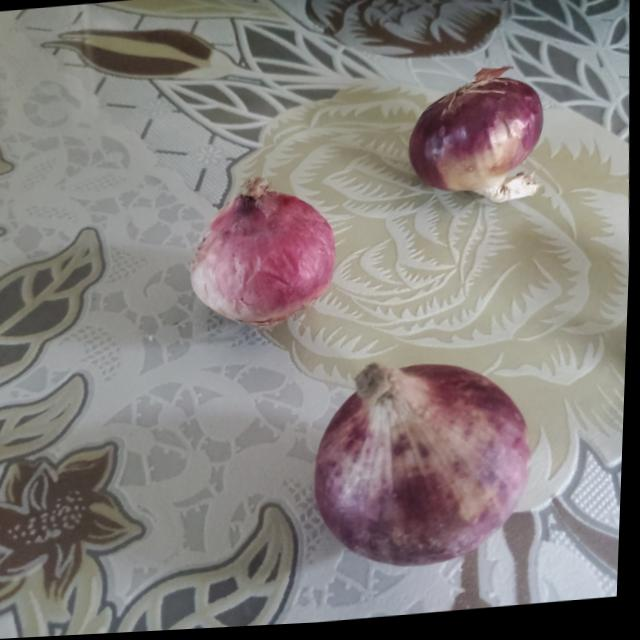onion: (311, 356, 540, 580), (191, 176, 342, 332), (405, 65, 550, 212)
